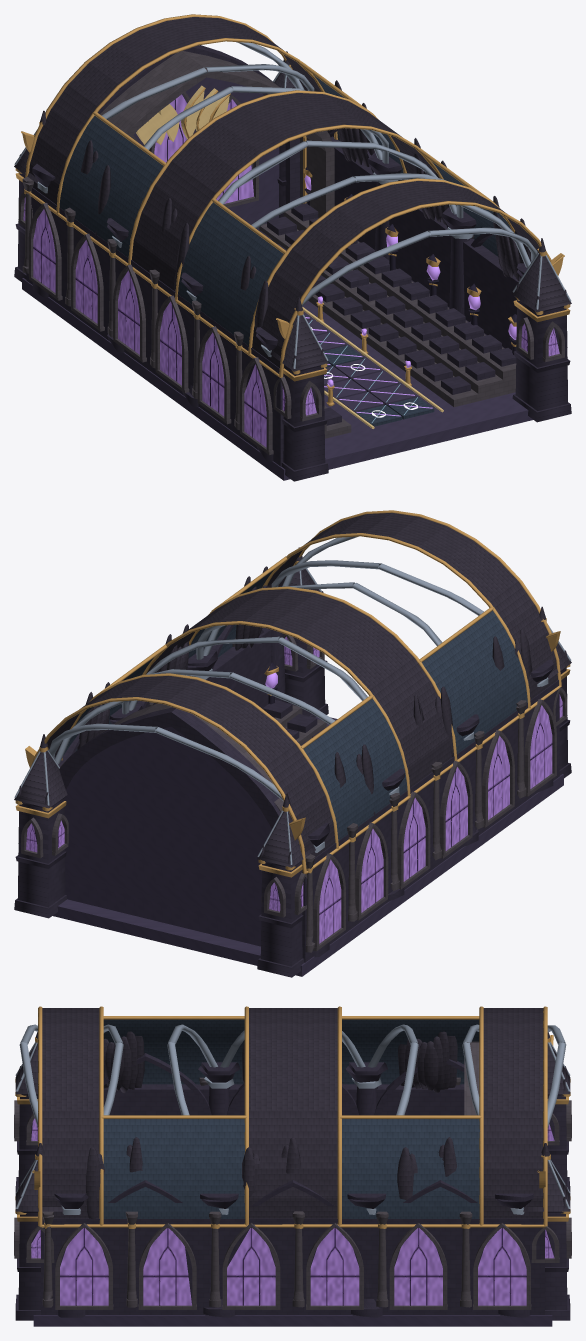
File: meterworks-stage-far.glb
3 renders of one model, top to bottom at view 1: azimuth 30°, elevation 25°; view 2: azimuth 150°, elevation 25°; view 3: azimuth 270°, elevation 25°, orthographic.
Visible parts, largest first — view 1: Meterworks Stage; view 2: Meterworks Stage; view 3: Meterworks Stage.
Boxes of the visible parts, x1,y1,x2,y2 form: Meterworks Stage: (14, 14, 571, 481); Meterworks Stage: (14, 510, 571, 977); Meterworks Stage: (14, 1006, 571, 1326).
Bounding box in the file's own units: 17.11 × 13.5 × 28.84.
Materials: 14 (13 with a texture image).
